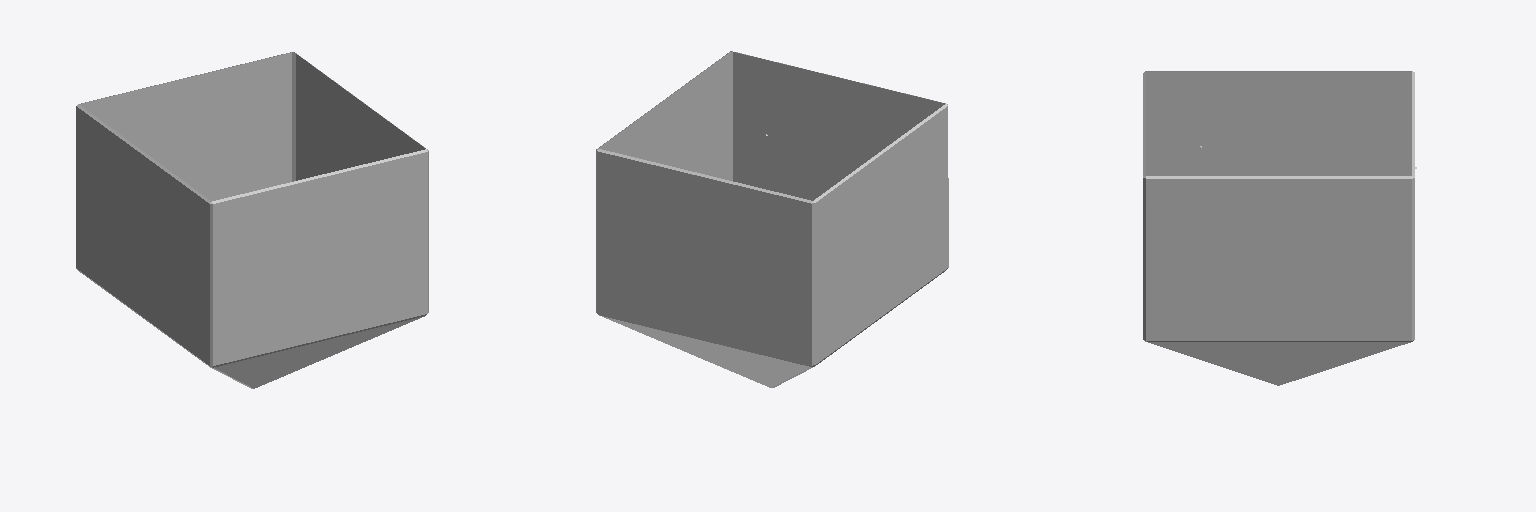
The model's file is newhostelh1.obj.
3 views of the same model, side by side, from view 1: azimuth 30°, elevation 25°; view 2: azimuth 150°, elevation 25°; view 3: azimuth 270°, elevation 25° (orthographic).
Size of the model in its own units: 2.31 by 2.54 by 2.42.